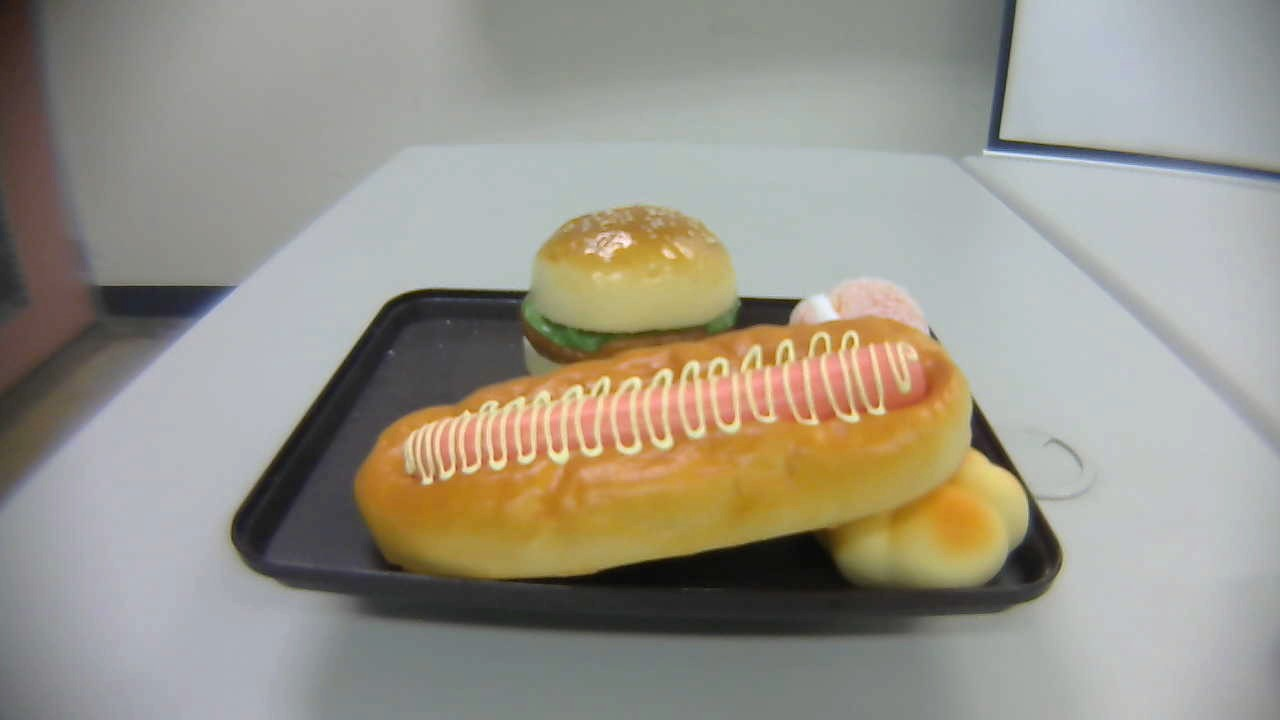coconut: (785, 277, 934, 354)
hamburger: (524, 204, 743, 399)
hot dog: (353, 316, 973, 576)
twist bread: (811, 442, 1030, 592)
